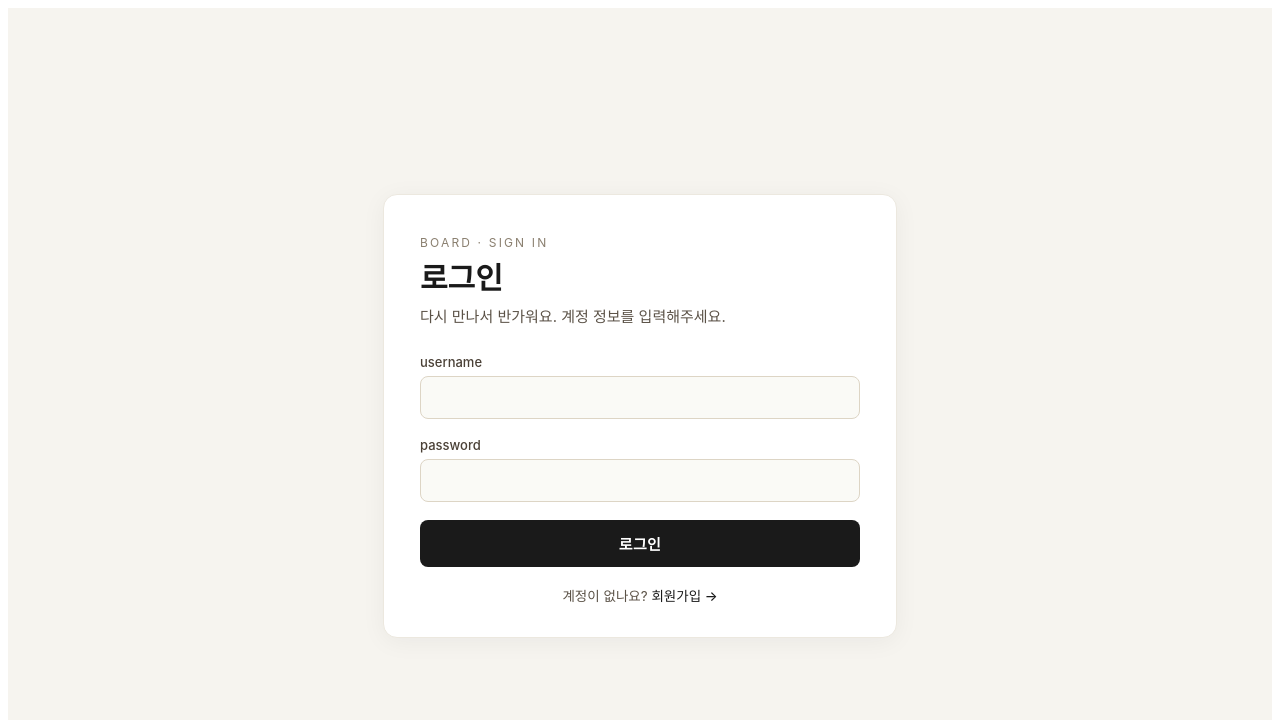
it: LoginPage › 401_응답이면_고정_매핑_메시지를_렌더한다
Type "marco" into the field labelled "username" at (640, 397), box [420,376,860,419]
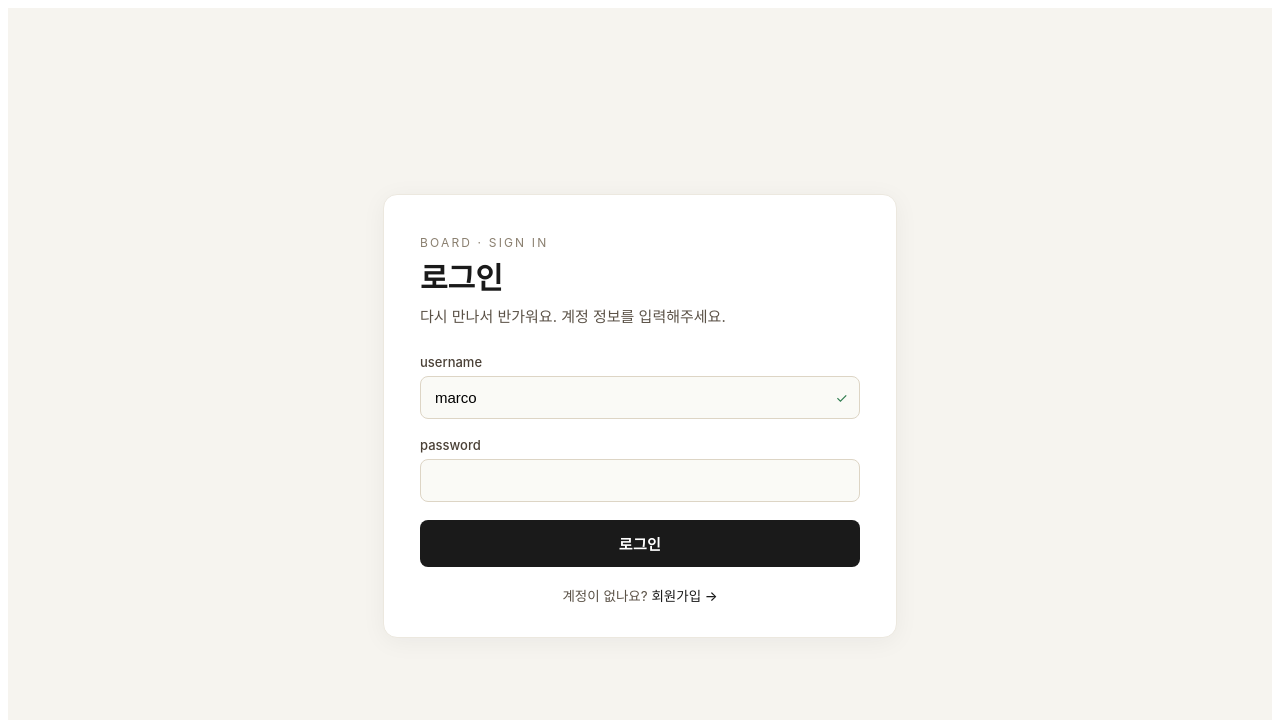
Type "wrong" into the password field labelled "password" at (640, 480), box [420,459,860,502]
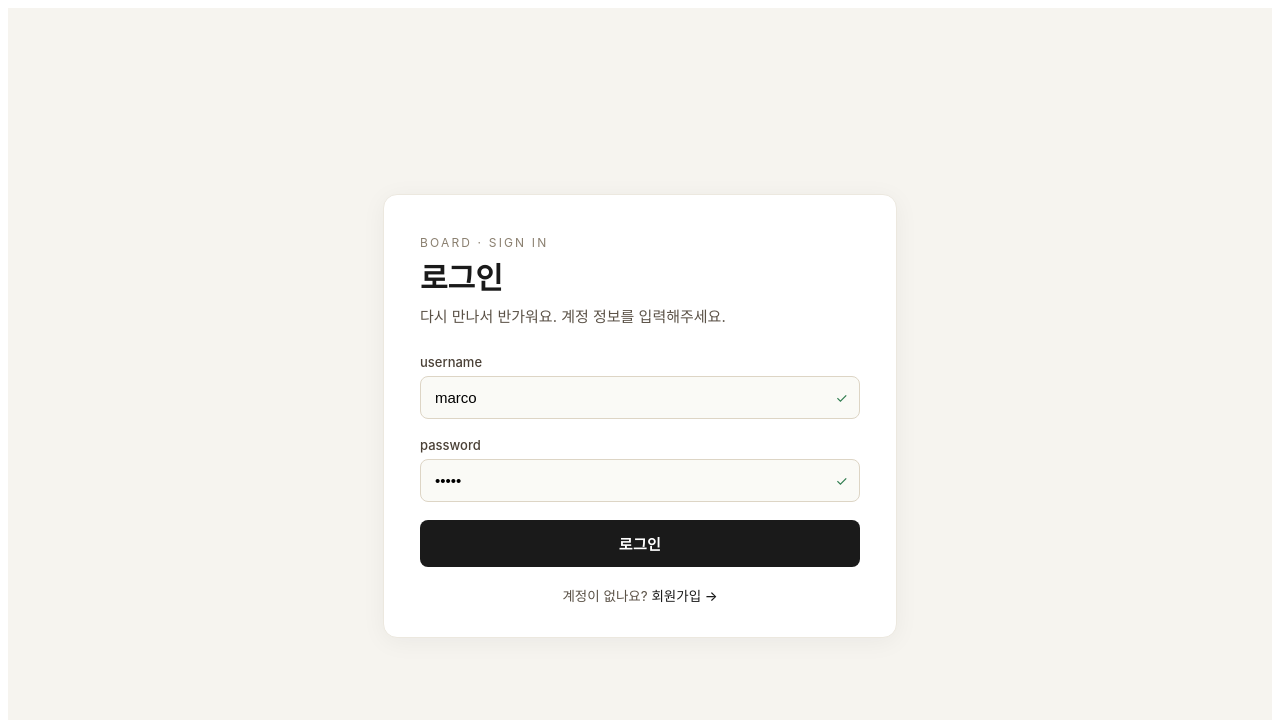
Click the button "로그인" at (640, 543), box [420,520,860,567]
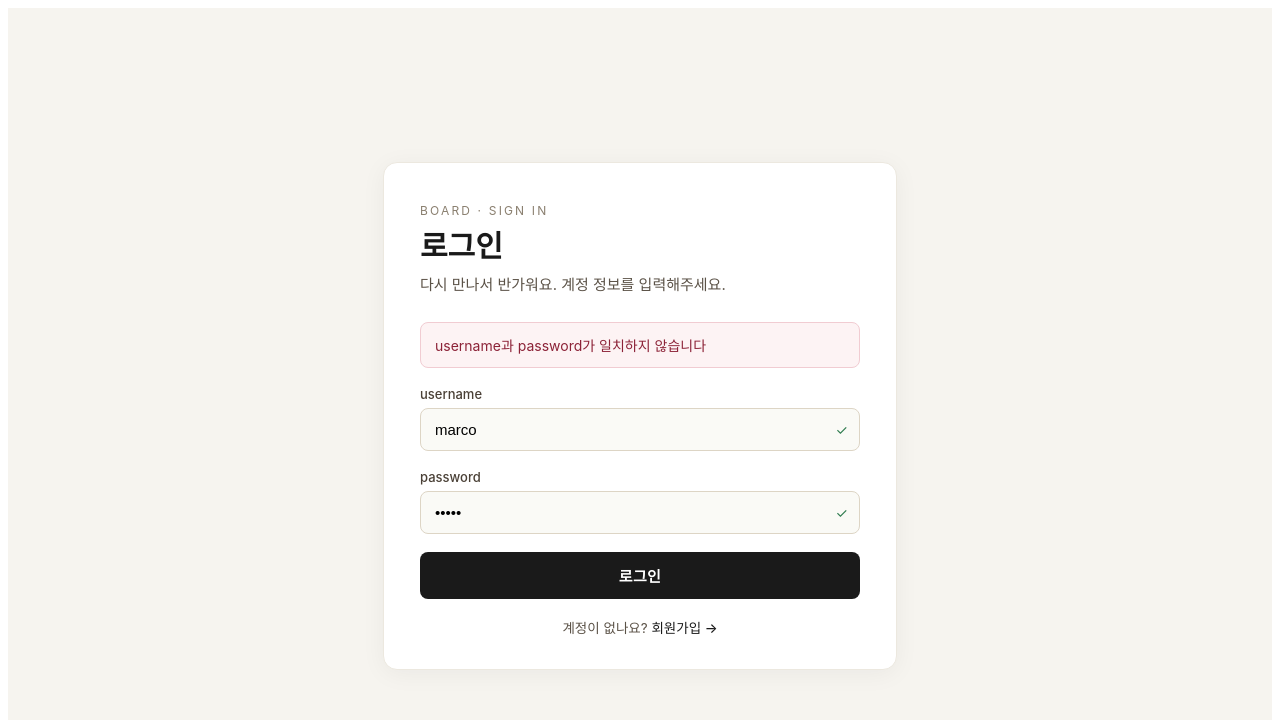
Check: the text "username과 password가 일치하지 않습니다" is shown, box [420,322,860,368]
